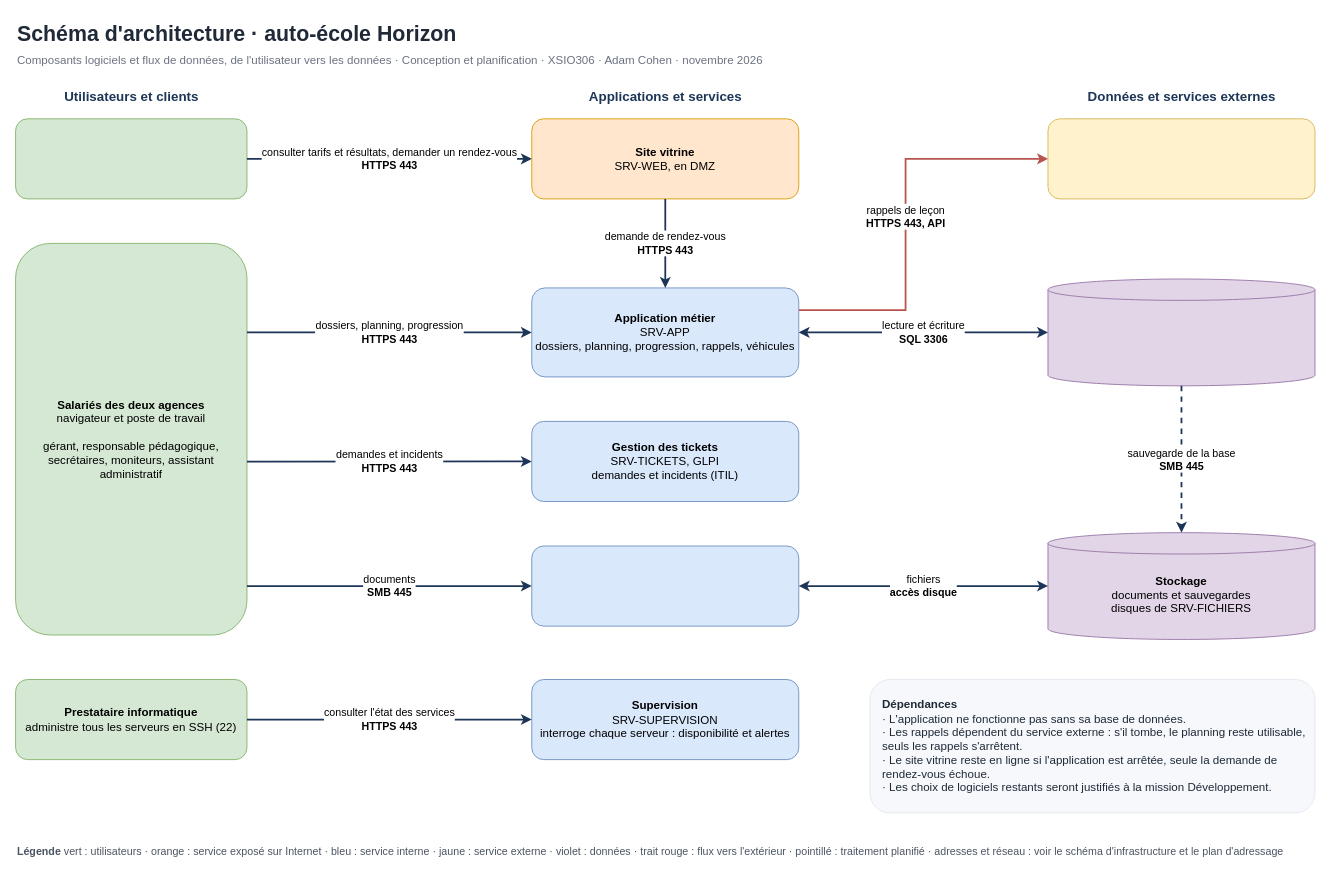
Some shapes in this 1331 by 879 pixel diagram are drawn without their labels. Each missing label, with the centre of its shape:
Base de données élèves, leçons, véhicules, progression MySQL, sur SRV-APP: point 1181,332
Partage de fichiers SRV-FICHIERS documents de l'entreprise: point 665,585
Service de notification service externe, API envoi des rappels (SMS ou mail): point 1181,158
Visiteurs et futurs élèves navigateur, Internet: point 131,158
